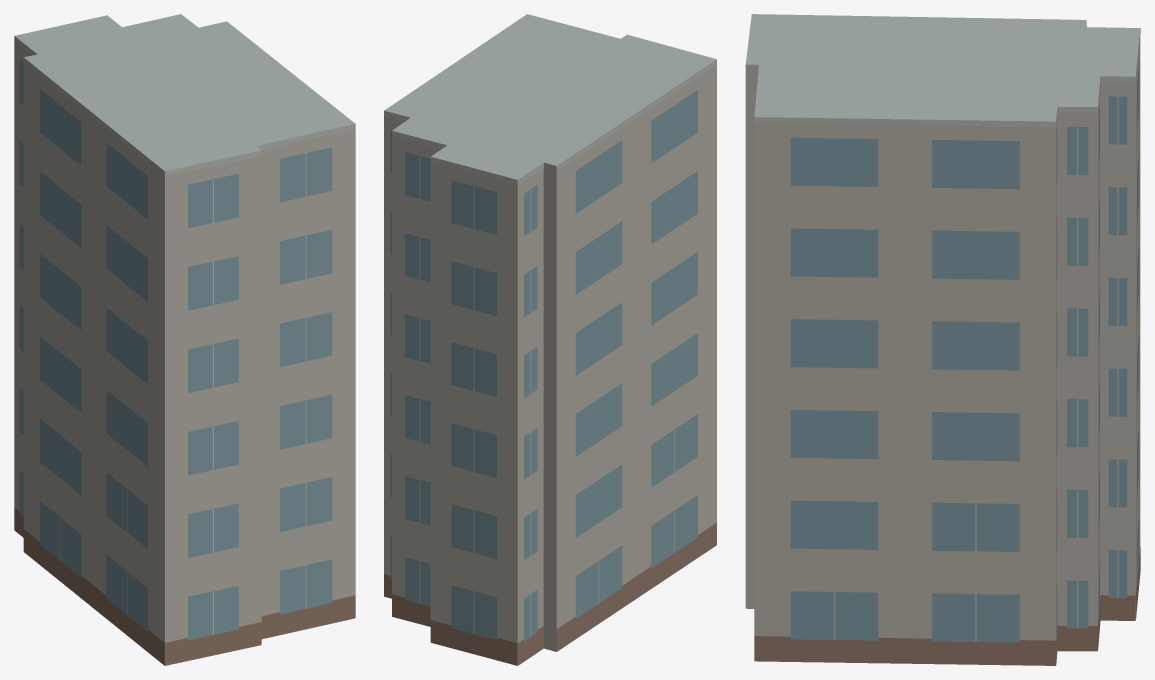
File: survey-upis-32836654.glb
3 views of the same model, side by side, from view 1: azimuth 30°, elevation 25°; view 2: azimuth 150°, elevation 25°; view 3: azimuth 270°, elevation 25° (orthographic). The views are drawn at different scales.
Parts seen in each view (by area): view 1: survey-upis-32836654.tmp; view 2: survey-upis-32836654.tmp; view 3: survey-upis-32836654.tmp.
Boxes of the visible parts, box(x1,y1,x2,y2) form: survey-upis-32836654.tmp: box(14, 14, 355, 665); survey-upis-32836654.tmp: box(384, 14, 716, 665); survey-upis-32836654.tmp: box(745, 14, 1140, 665).
Size of the model in its own units: 9.49 by 22.36 by 14.71.
